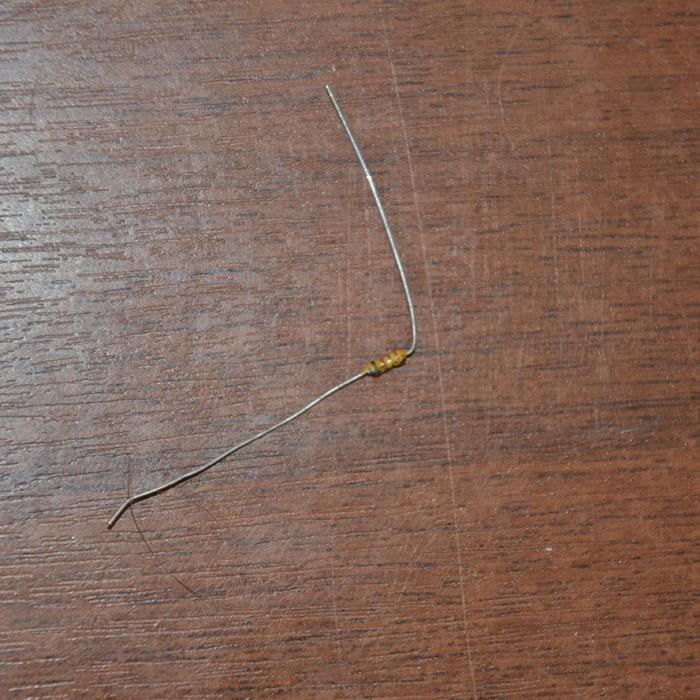resistor: (364, 347, 411, 378)
